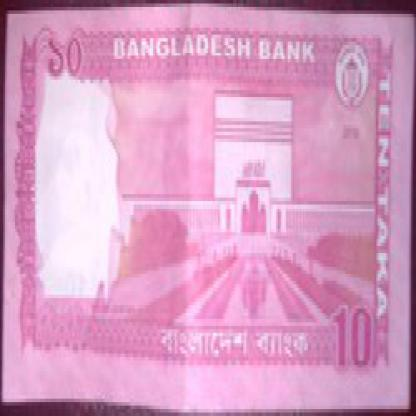Ten Taka: (331, 291, 375, 385), (43, 28, 95, 94)
